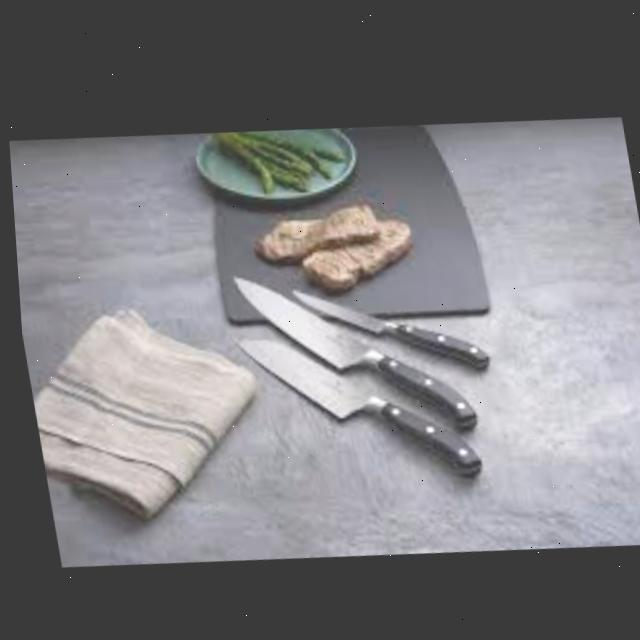Knife: (225, 247, 473, 446), (225, 306, 478, 492), (285, 262, 486, 381)
